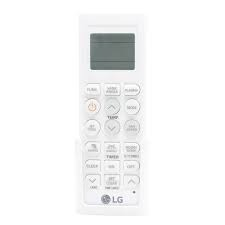remote control: (79, 11, 149, 216)
